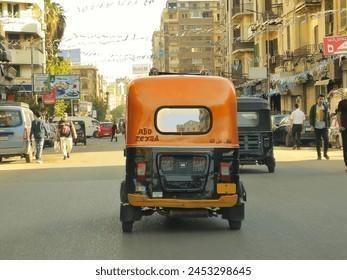keke: (116, 72, 246, 242), (237, 99, 278, 179), (0, 98, 37, 172)
